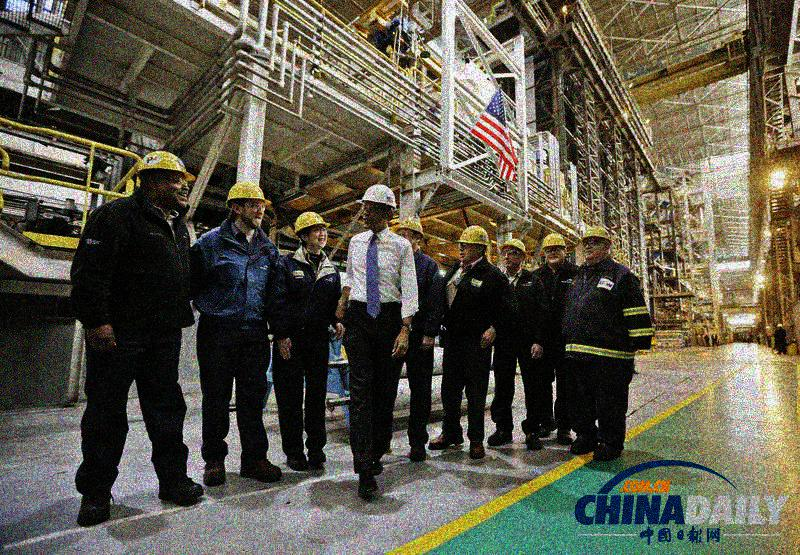helmet: (138, 149, 194, 208), (226, 179, 271, 231), (360, 184, 396, 231), (455, 223, 489, 261), (295, 210, 329, 248), (393, 214, 425, 252), (581, 226, 614, 259), (499, 236, 525, 269), (540, 233, 566, 266), (777, 322, 784, 330)
